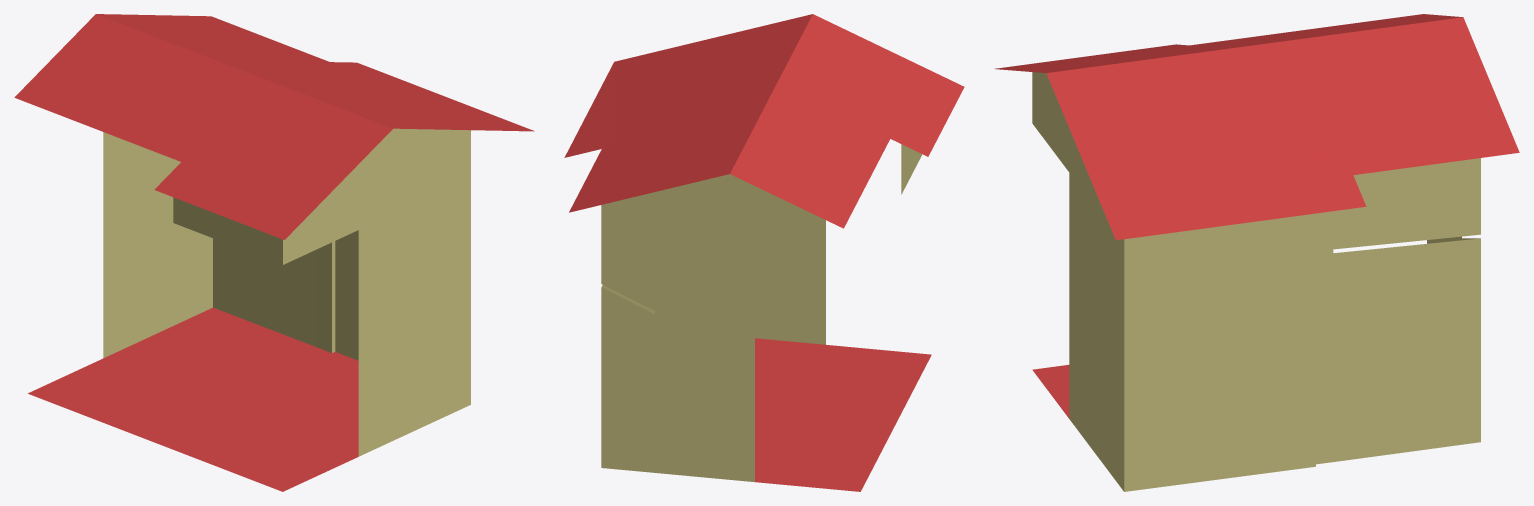
3 renders of one model, left to right at view 1: azimuth 30°, elevation 25°; view 2: azimuth 150°, elevation 25°; view 3: azimuth 270°, elevation 25°, orthographic. The views are drawn at different scales.
Size of the model in its own units: 11.58 by 12.72 by 9.56.
